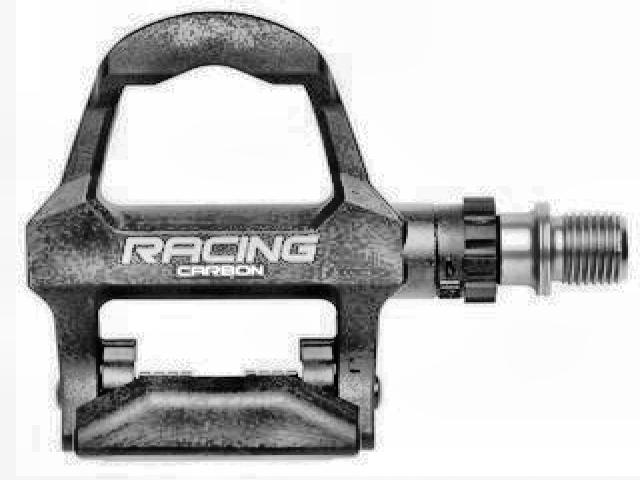pedal: (25, 8, 628, 461)
